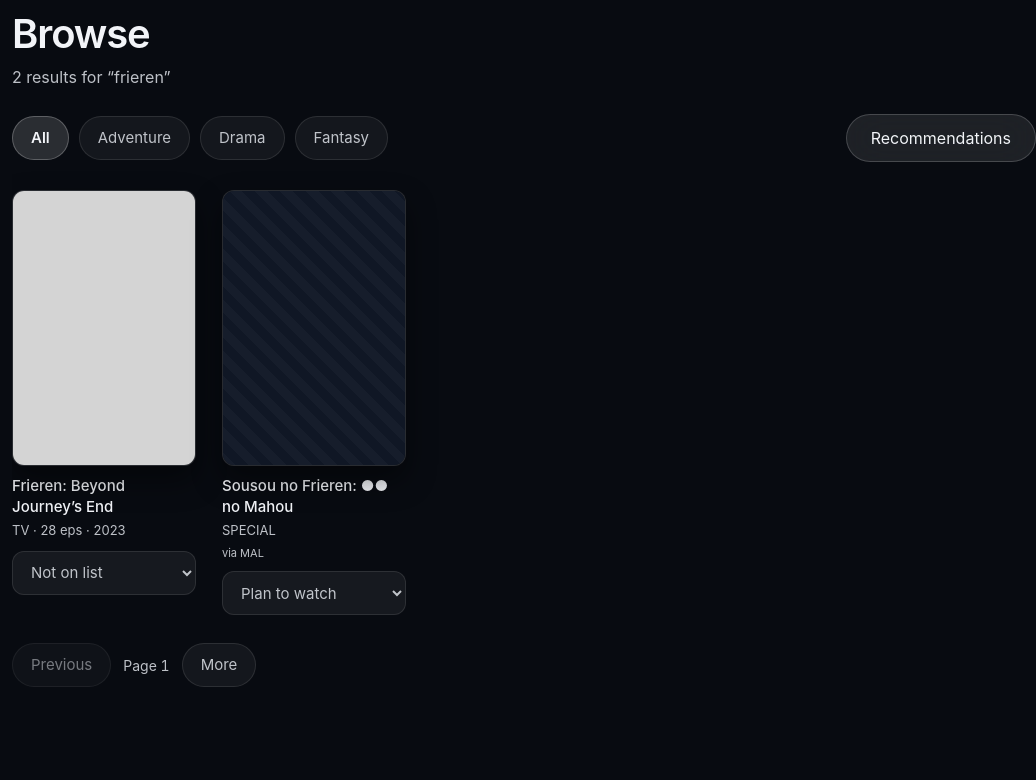
Test: Browse › pages forward when there is another page
Expected: the text "Frieren: Beyond Journey’s End" is shown, x1=12 y1=476 x2=125 y2=516
Click the button "More" at {"x": 219, "y": 665}, box x1=182 y1=643 x2=256 y2=687
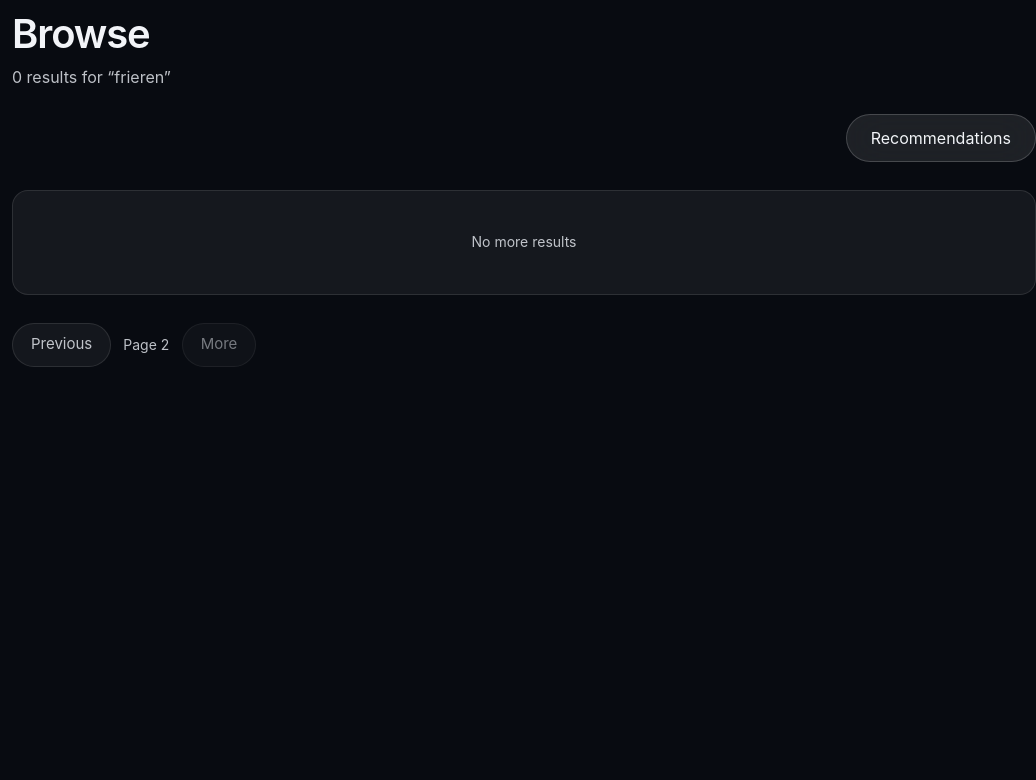
Result: the text "No more results" is shown at x1=472 y1=233 x2=576 y2=250
Result: the button "Previous" is enabled at x1=12 y1=323 x2=111 y2=367
